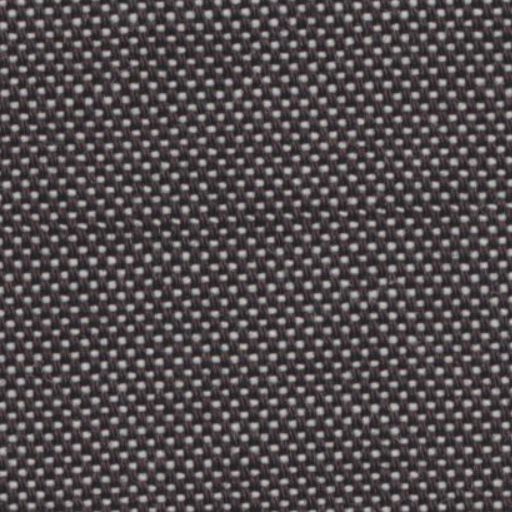TuoSha: (28, 186, 498, 242)
